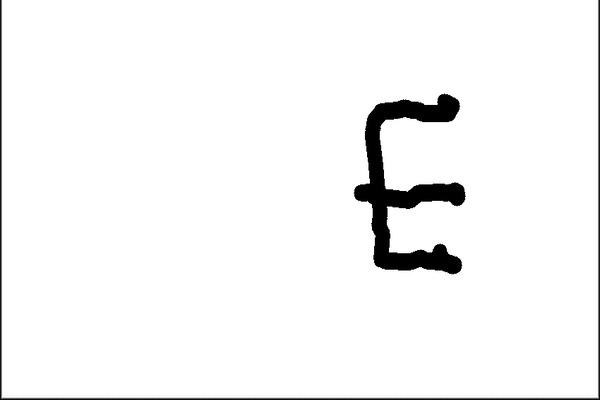E: (345, 89, 470, 280)
